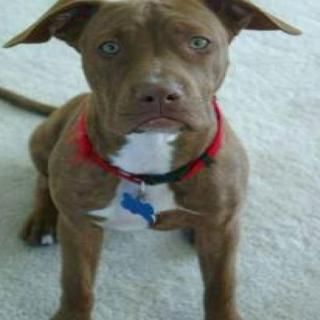dog: (6, 0, 303, 141)
nose: (137, 84, 186, 109)
